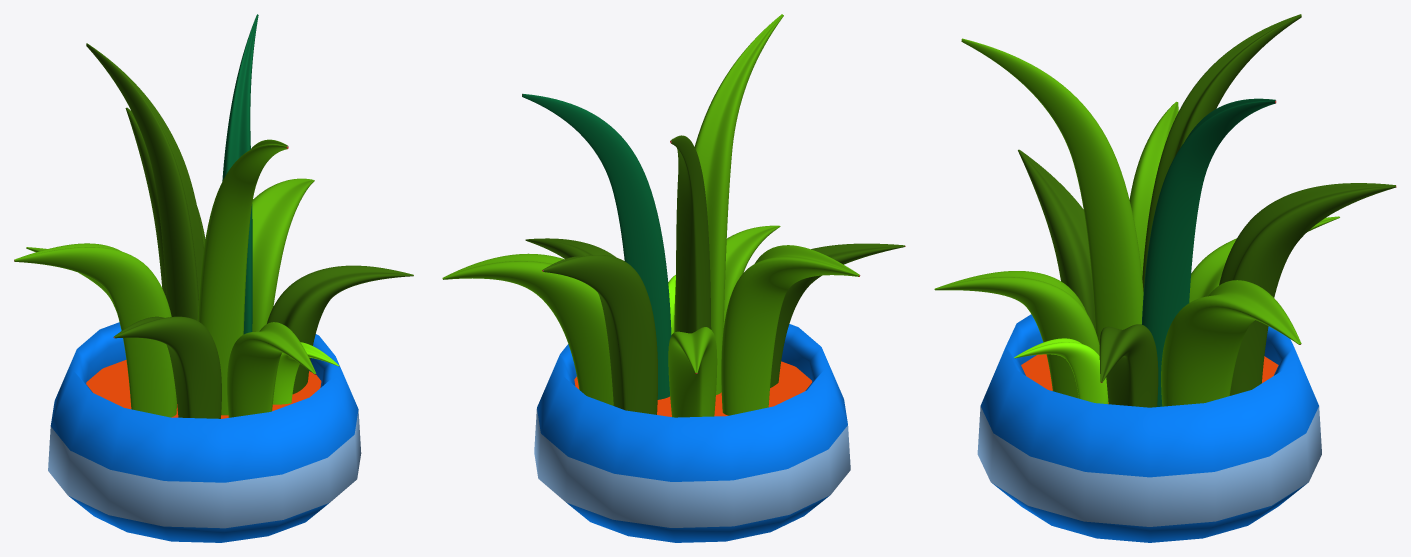
The model's file is Potted Aloe.fbx.
3 renders of one model, left to right at view 1: azimuth 30°, elevation 25°; view 2: azimuth 150°, elevation 25°; view 3: azimuth 270°, elevation 25°, orthographic. The views are drawn at different scales.
Parts seen in each view (by area): view 1: Plane, NurbsPath, NurbsPath.010, NurbsPath.008, NurbsPath.003, NurbsPath.007, NurbsPath.004, NurbsPath.005, NurbsPath.009, Circle, NurbsPath.002, NurbsPath.006; view 2: Plane, NurbsPath, NurbsPath.009, NurbsPath.002, NurbsPath.004, NurbsPath.010, NurbsPath.008, NurbsPath.001, NurbsPath.003, NurbsPath.007, Circle, NurbsPath.005; view 3: Plane, NurbsPath.010, NurbsPath.009, NurbsPath.004, NurbsPath.002, NurbsPath.007, NurbsPath.008, NurbsPath.003, NurbsPath.005, NurbsPath, NurbsPath.006, NurbsPath.001 (+1 smaller).
Part boxes in pixels (box(x1,y1,x2,y2)): Plane: box(48, 322, 361, 542); NurbsPath: box(14, 243, 176, 417); NurbsPath.010: box(197, 139, 288, 415); NurbsPath.008: box(86, 43, 203, 320); NurbsPath.003: box(113, 316, 221, 418); NurbsPath.007: box(227, 322, 316, 417); NurbsPath.004: box(252, 178, 314, 331); NurbsPath.005: box(267, 265, 413, 394); NurbsPath.009: box(222, 14, 258, 334); Circle: box(86, 360, 321, 418); NurbsPath.002: box(125, 107, 205, 297); NurbsPath.006: box(272, 342, 339, 404); Plane: box(534, 324, 850, 542); NurbsPath: box(721, 245, 860, 415); NurbsPath.009: box(522, 93, 671, 399); NurbsPath.002: box(542, 255, 657, 414); NurbsPath.004: box(442, 253, 613, 405); NurbsPath.010: box(674, 14, 783, 394); NurbsPath.008: box(670, 135, 711, 333); NurbsPath.001: box(668, 327, 717, 417); NurbsPath.003: box(770, 243, 905, 387); NurbsPath.007: box(723, 225, 780, 327); Circle: box(574, 361, 811, 416); NurbsPath.005: box(525, 238, 615, 258); Plane: box(977, 314, 1321, 542); NurbsPath.010: box(961, 38, 1143, 345); NurbsPath.009: box(1141, 98, 1276, 406); NurbsPath.004: box(1161, 280, 1301, 406); NurbsPath.002: box(1219, 183, 1396, 395); NurbsPath.007: box(934, 271, 1099, 398); NurbsPath.008: box(1142, 14, 1301, 291); NurbsPath.003: box(1018, 149, 1095, 329); NurbsPath.005: box(1099, 324, 1158, 407); NurbsPath: box(1129, 101, 1178, 276); NurbsPath.006: box(1014, 338, 1108, 403); NurbsPath.001: box(1189, 216, 1339, 302).
Bounding box in the file's own units: 222 × 248 × 223.
